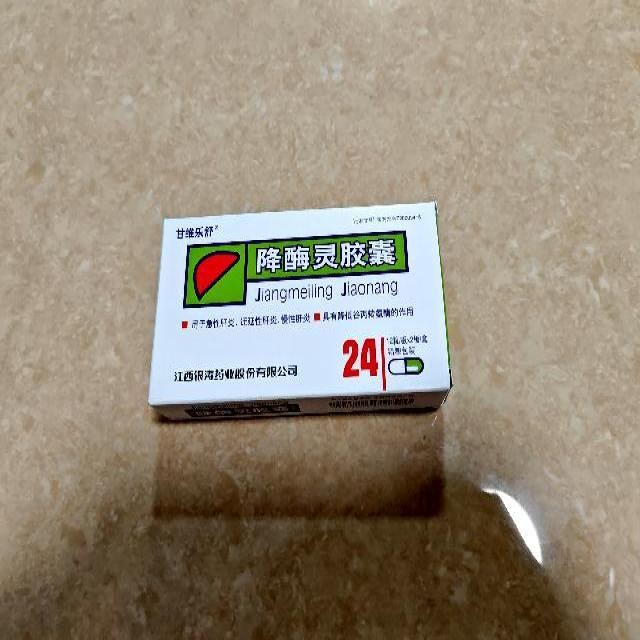box: (150, 200, 450, 419)
